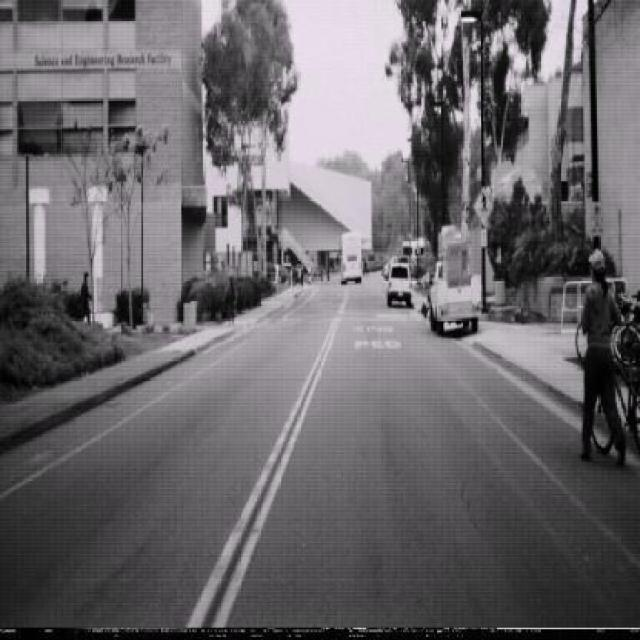pedestrianCrossing: (472, 184, 494, 226)
